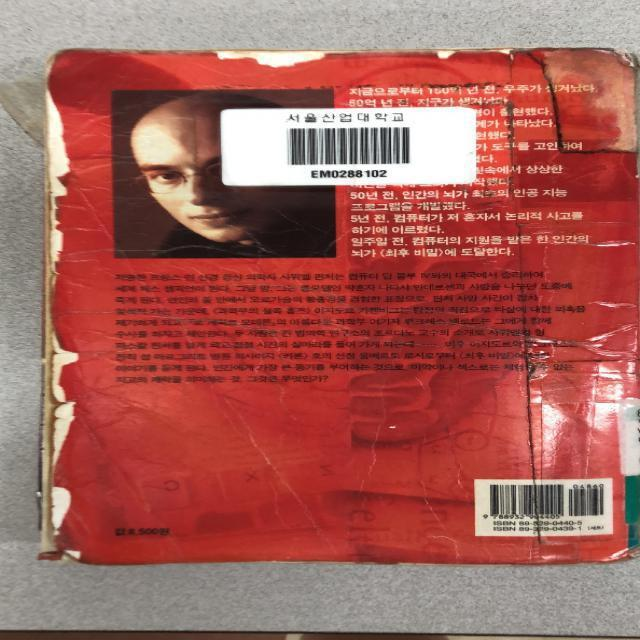Ripped: (30, 55, 75, 289), (37, 327, 82, 467), (32, 539, 95, 573), (491, 47, 527, 85), (605, 47, 639, 76)
Wornout: (94, 556, 388, 574), (522, 544, 639, 572), (62, 43, 204, 63), (204, 49, 353, 68), (42, 473, 78, 540), (391, 556, 521, 574), (356, 46, 434, 64), (36, 289, 71, 327), (432, 45, 462, 62)
